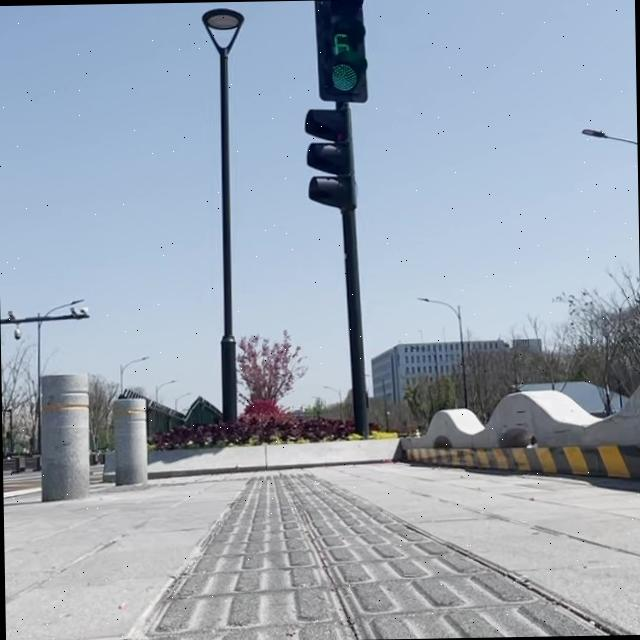curb: (148, 435, 397, 477), (393, 440, 640, 480), (103, 451, 114, 482)
